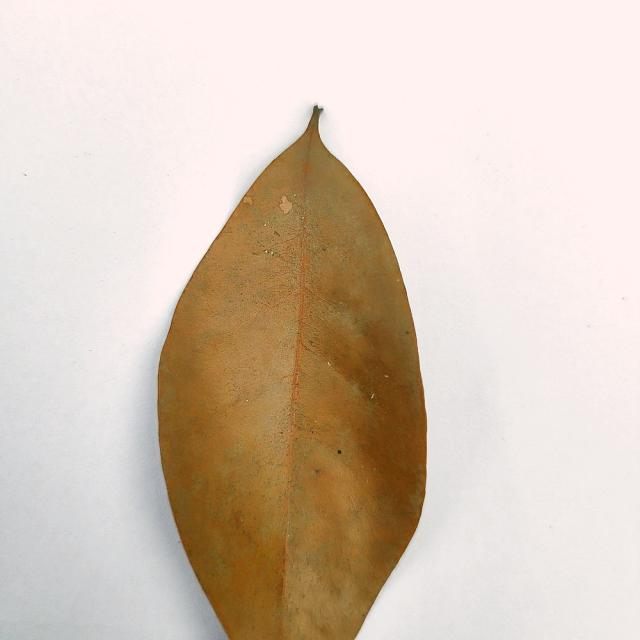Dry_Leaf-Lychee: (157, 107, 428, 639)
